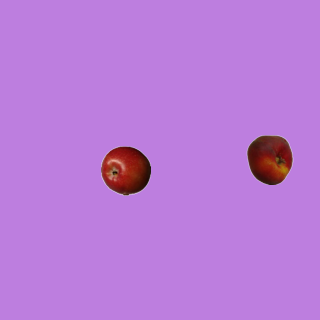Apple Braeburn: (100, 145, 150, 195)
Nectarine Flat: (244, 134, 294, 184)
